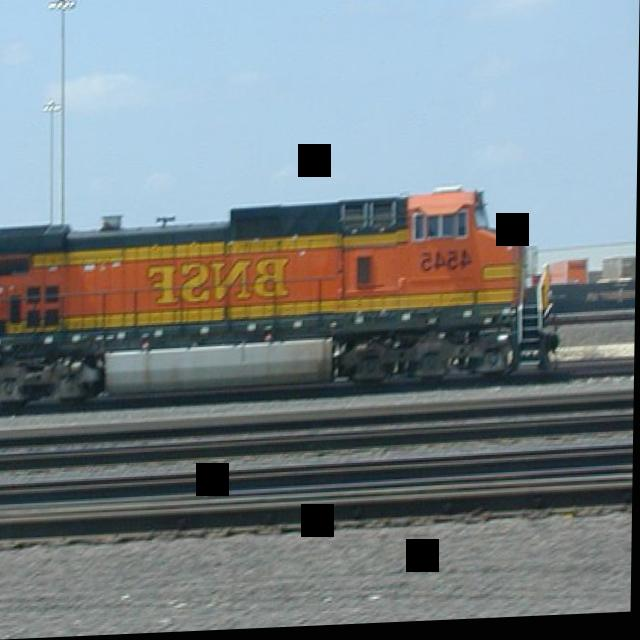locomotive: (0, 165, 573, 437)
